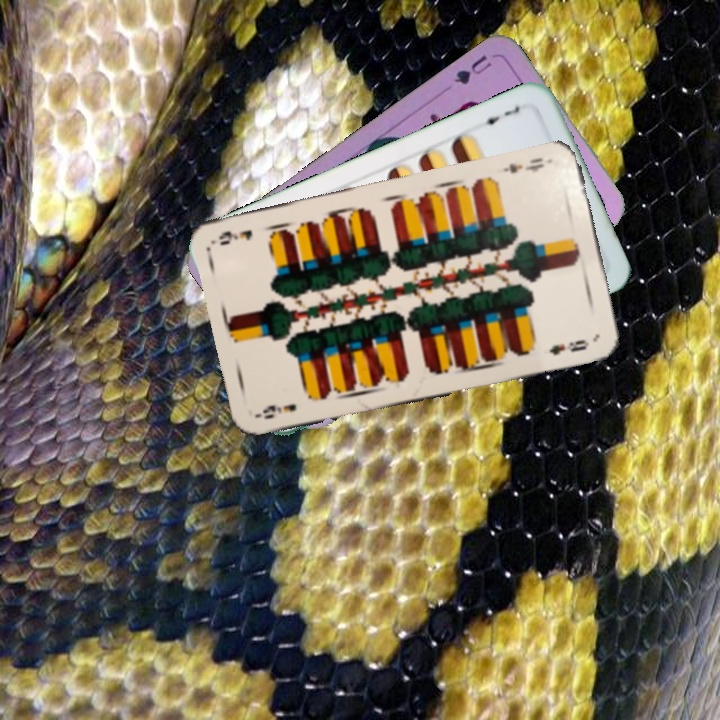E7: (475, 102, 523, 128)
E9: (499, 153, 547, 177), (255, 399, 299, 422)
GU: (450, 51, 495, 88)
